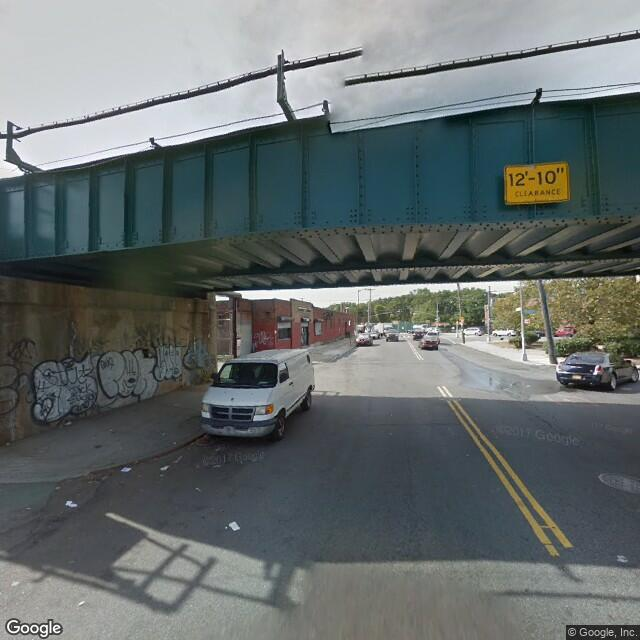litter: (229, 519, 242, 533), (119, 463, 135, 474), (615, 554, 628, 563), (159, 463, 172, 472), (63, 500, 78, 507), (76, 599, 86, 606), (66, 421, 76, 427), (177, 455, 183, 463)
